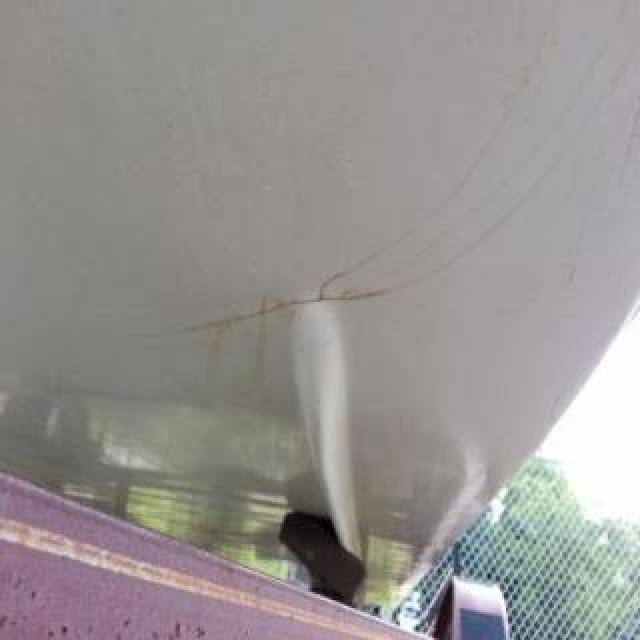crack: (116, 34, 640, 340), (338, 0, 630, 296), (316, 0, 560, 302)
dent: (612, 94, 640, 202)
